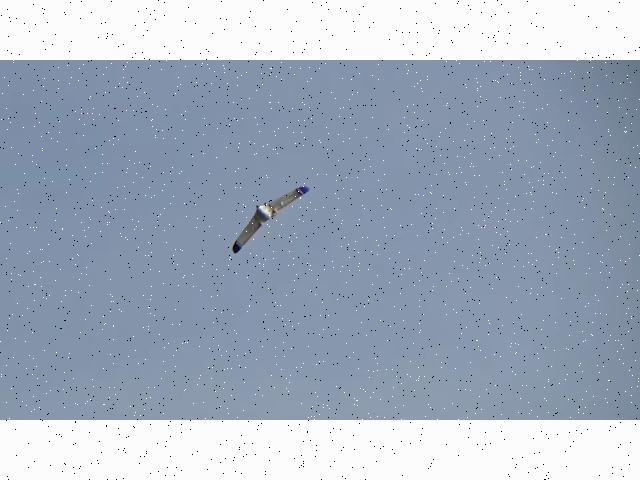Anti-Drone: (233, 185, 309, 253)
